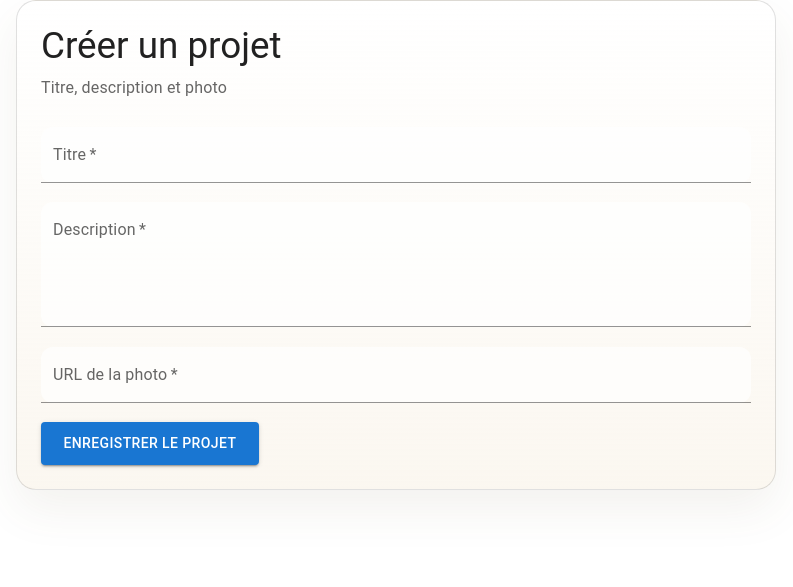
ProjectCreationForm › affiche les erreurs de validation quand on soumet un formulaire vide
The width and height of the screenshot is (793, 587).
Click the button "Enregistrer le projet" at (150, 444), box [41, 422, 259, 465]
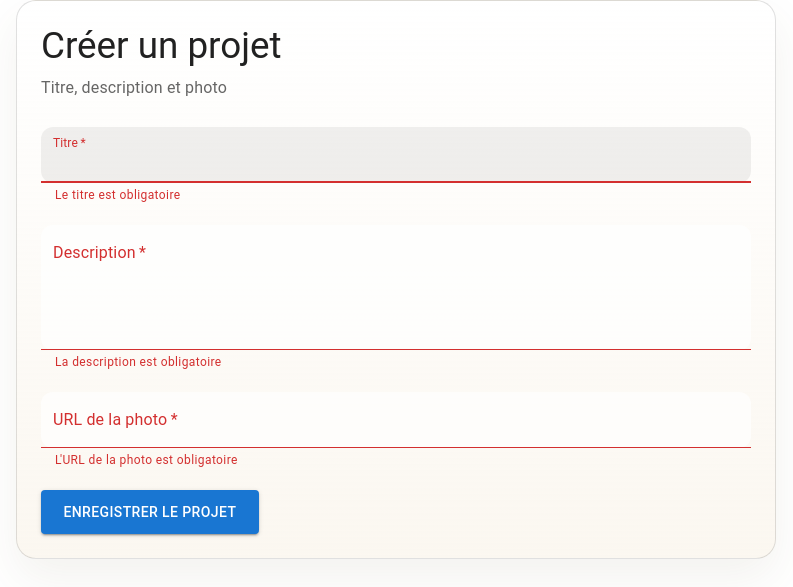
Check: the text "Le titre est obligatoire" is shown, box [55, 188, 180, 202]
Check: the text "La description est obligatoire" is shown, box [55, 355, 222, 369]
Check: the text "L'URL de la photo est obligatoire" is shown, box [55, 453, 238, 467]
